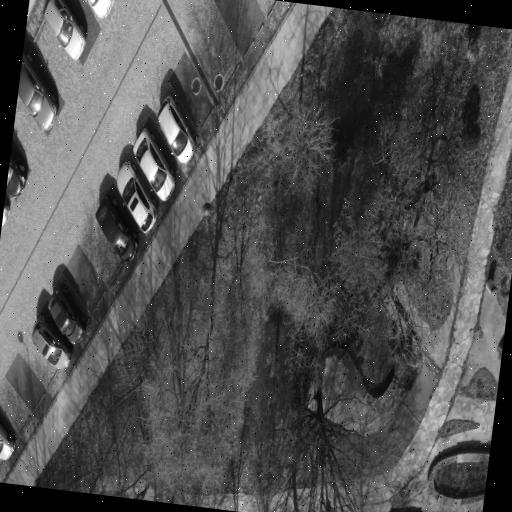person: (133, 128, 176, 201), (18, 52, 58, 130), (117, 160, 157, 231), (96, 196, 138, 261), (158, 95, 195, 163), (44, 0, 86, 59), (32, 314, 73, 368), (49, 285, 86, 343), (6, 149, 28, 197), (0, 423, 15, 459), (87, 0, 113, 18), (2, 196, 11, 226)
